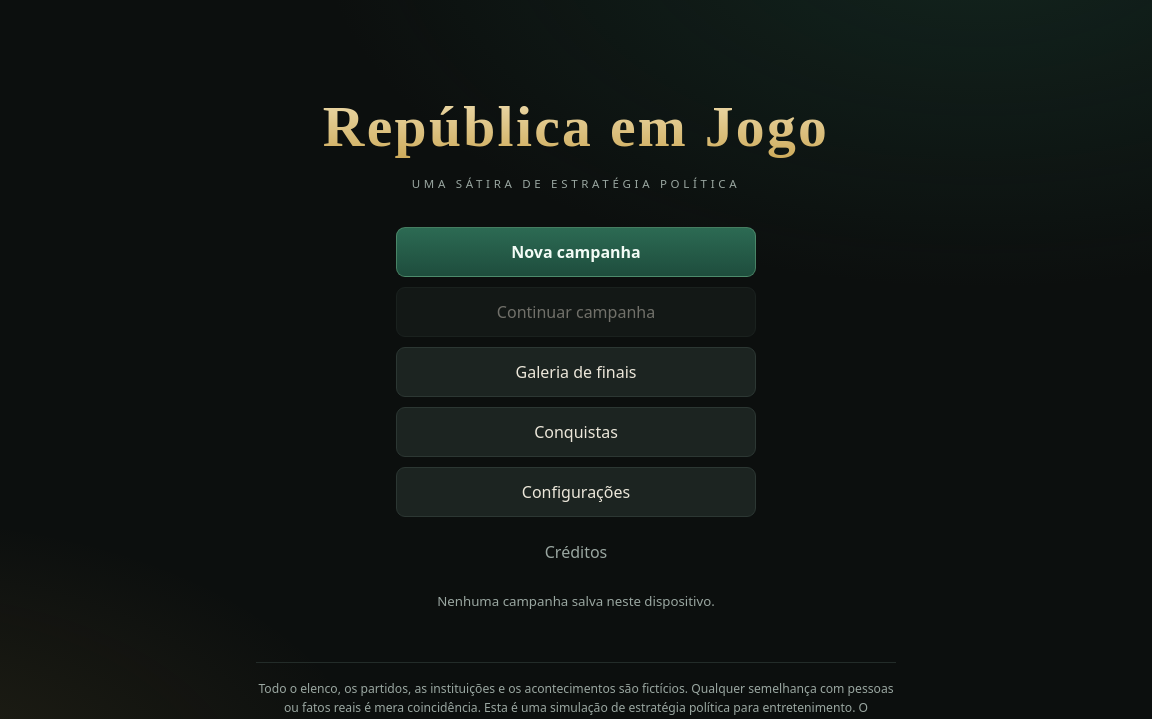
Test case: fluxo principal da interface › inicia campanha: menu → dificuldade → introdução → painel
Click the button "Nova campanha" at (576, 252), box [396,227,756,277]
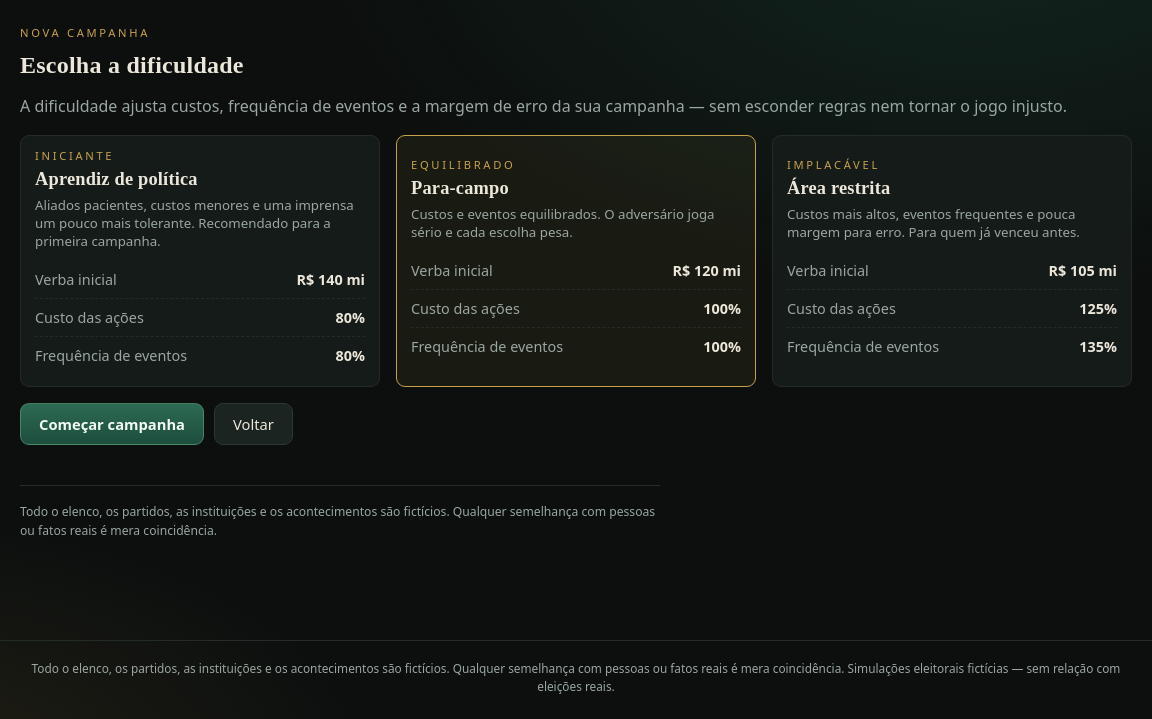
Click the button "Começar campanha" at (112, 424), box [20,402,204,444]
(page scrolled)
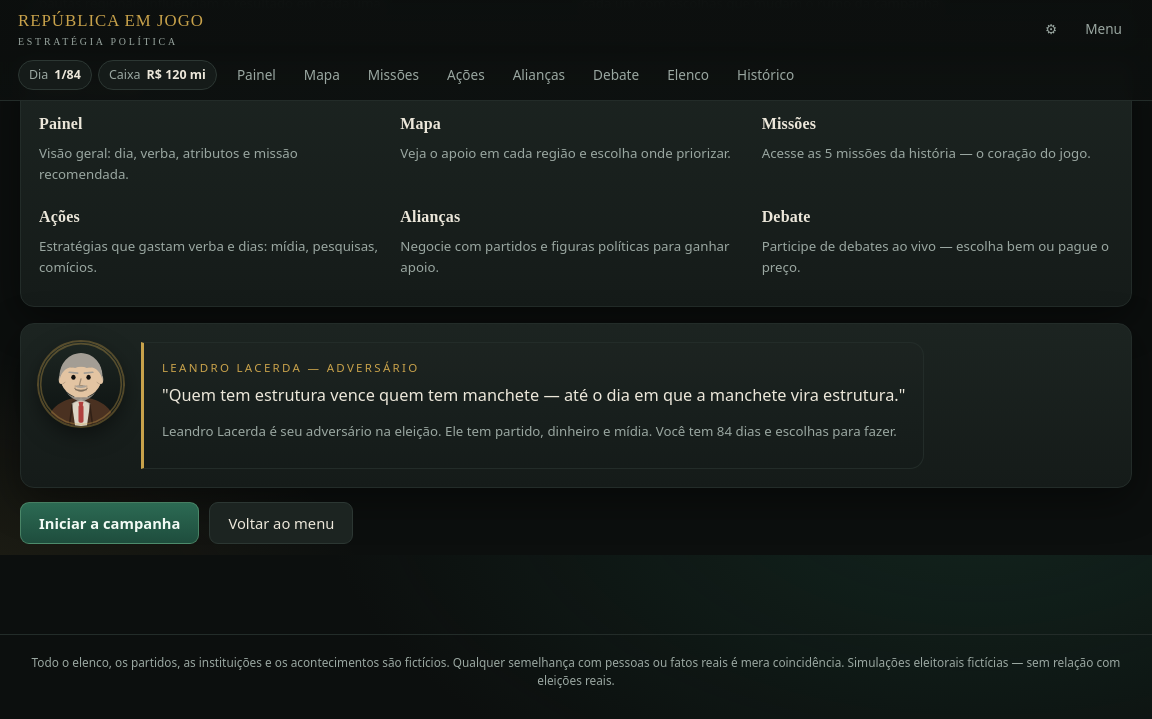
Expected: the button "Iniciar a campanha" is shown
Click the button "Iniciar a campanha" at (110, 523), box [20,502,199,544]
(page scrolled)
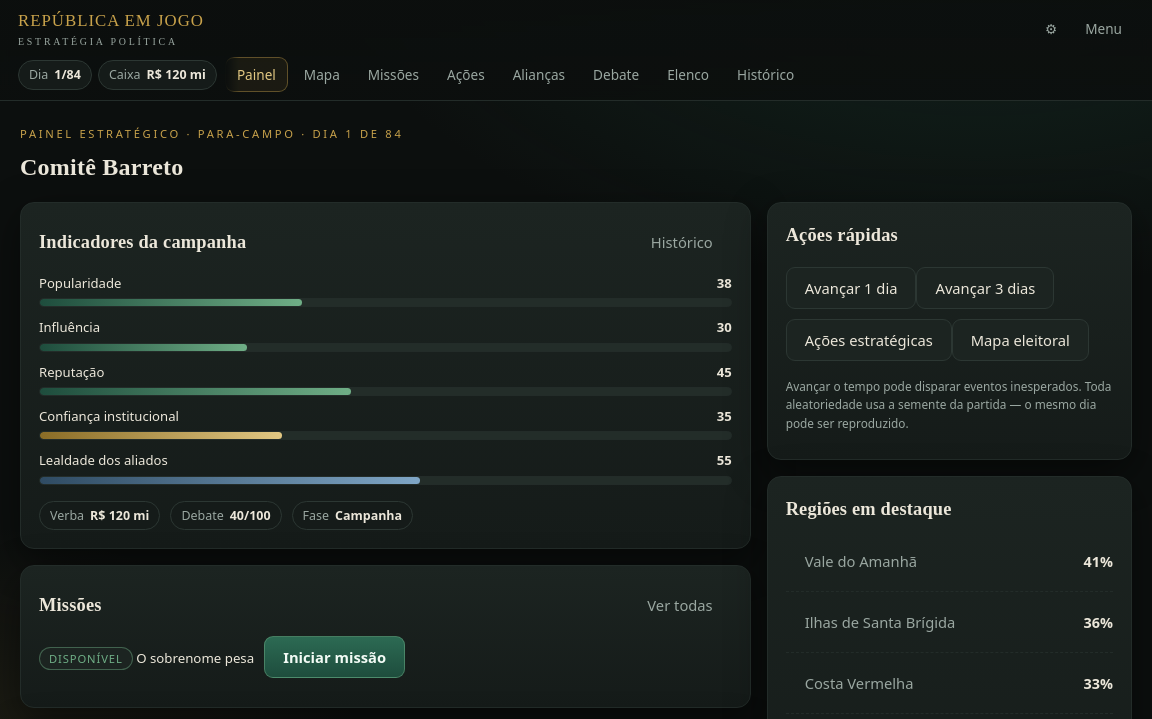
Expected: the text "Popularidade" is shown, [39,273,121,293]
Expected: the heading "Comitê Barreto" is shown, [20,154,184,180]
Expected: the text "Painel estratégico · Para-campo · dia 1 de 84" is shown, [20,126,404,141]
